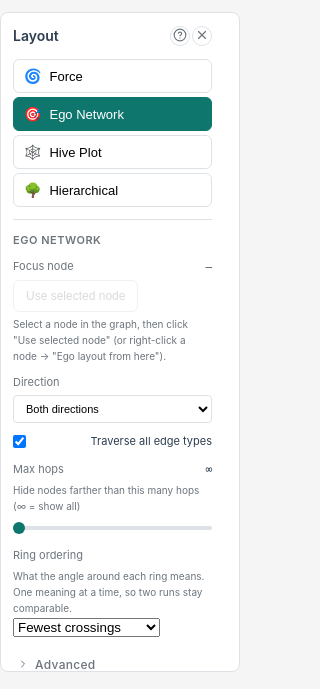
LayoutPanel — ego ring ordering and edge arcs › defaults to crossing reduction with same-ring arcs on
Expected: the dropdown with test id "ego-ring-ordering" shows "Fewest crossings", [13,618,160,637]
Click the element with test id "ego-advanced-toggle" at (56, 664), box [17,657,96,672]
(page scrolled)
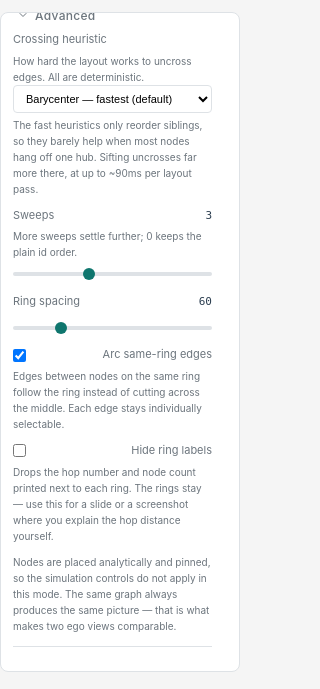
Result: the checkbox with test id "ego-arc-intra-ring" is checked at [13,349,26,362]
